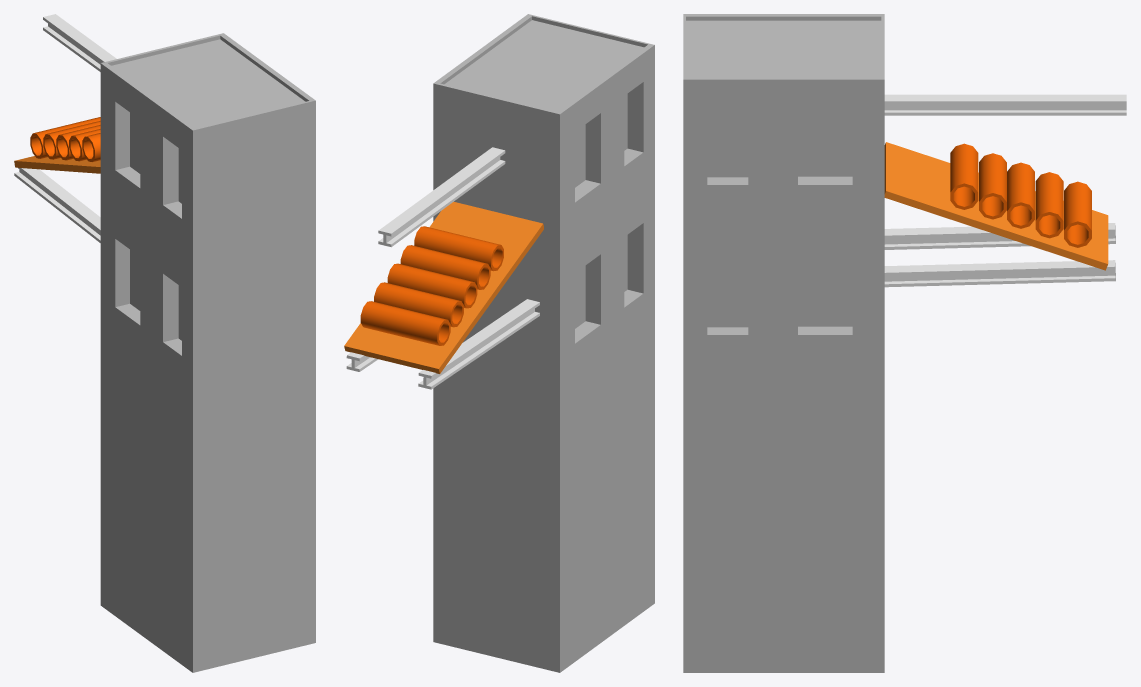
File: LOGS BAT.fbx
The picture shows the model from 3 angles, left to right: view 1: azimuth 30°, elevation 25°; view 2: azimuth 150°, elevation 25°; view 3: azimuth 270°, elevation 25°; orthographic projection. The views are drawn at different scales.
Parts seen in each view (by area): view 1: Edge__1_, Edge, metal_beam, metal_beam__2_, Cube, RollingLog, RollingLog__1_, RollingLog__3_, RollingLog__4_; view 2: Edge, Edge__1_, Cube, metal_beam__2_, metal_beam, RollingLog, RollingLog__3_, RollingLog__4_, RollingLog__1_, RollingLog__2_; view 3: Edge, Edge__1_, Cube, metal_beam__2_, metal_beam__3_, metal_beam, RollingLog__1_, RollingLog__4_, RollingLog__3_, RollingLog, RollingLog__2_.
Part boxes in pixels (box(x1,y1,x2,y2)): Edge__1_: box(153, 71, 315, 672); Edge: box(100, 33, 275, 643); metal_beam: box(14, 165, 100, 242); metal_beam__2_: box(43, 14, 116, 71); Cube: box(14, 156, 100, 173); RollingLog: box(30, 117, 100, 158); RollingLog__1_: box(43, 121, 100, 159); RollingLog__3_: box(56, 125, 100, 160); RollingLog__4_: box(82, 133, 100, 161); Edge: box(433, 43, 614, 672); Edge__1_: box(488, 14, 654, 632); Cube: box(344, 202, 543, 373); metal_beam__2_: box(378, 147, 505, 247); metal_beam: box(418, 299, 539, 389); RollingLog: box(360, 301, 450, 345); RollingLog__3_: box(387, 263, 477, 308); RollingLog__4_: box(414, 226, 503, 271); RollingLog__1_: box(374, 282, 463, 327); RollingLog__2_: box(400, 245, 490, 289); Edge: box(769, 14, 884, 672); Edge__1_: box(683, 14, 769, 672); Cube: box(884, 142, 1108, 270); metal_beam__2_: box(884, 94, 1126, 115); metal_beam__3_: box(884, 260, 1115, 287); metal_beam: box(884, 223, 1115, 249); RollingLog__1_: box(1035, 172, 1063, 238); RollingLog__4_: box(950, 143, 978, 209); RollingLog__3_: box(1007, 162, 1034, 228); RollingLog: box(1064, 181, 1091, 247); RollingLog__2_: box(979, 153, 1006, 219).
Size of the model in its own units: 620 by 2612 by 1770.
